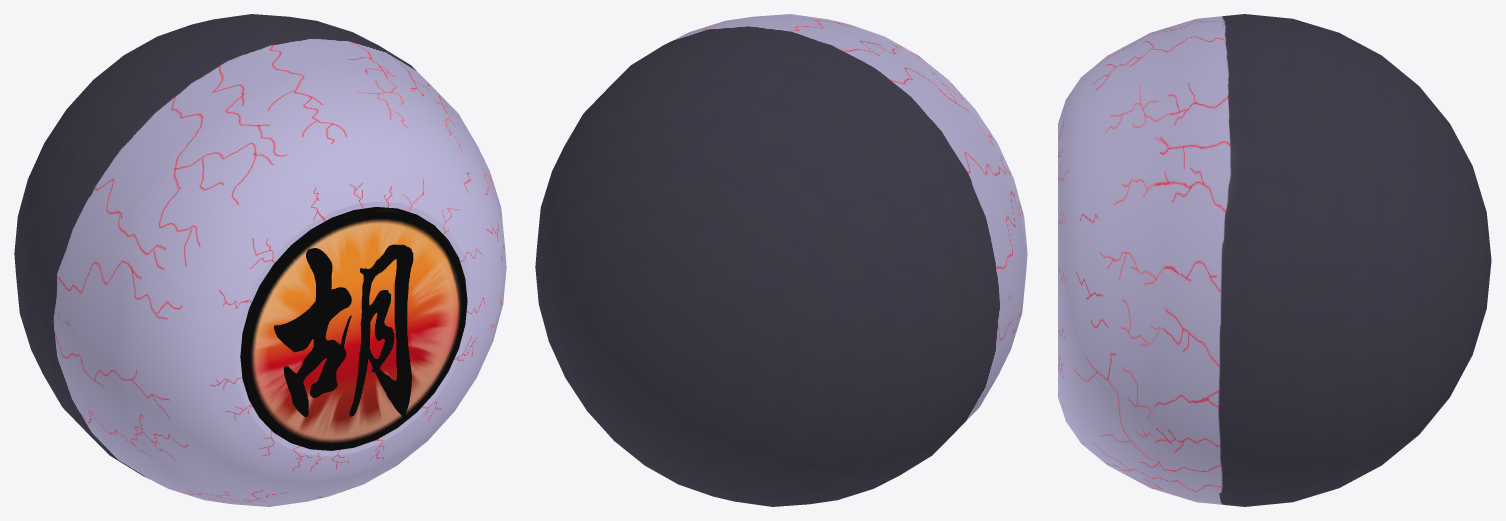
File: Eye.glb
The picture shows the model from 3 angles, left to right: view 1: azimuth 30°, elevation 25°; view 2: azimuth 150°, elevation 25°; view 3: azimuth 270°, elevation 25°; orthographic projection.
Parts seen in each view (by area): view 1: Sphere, Circle, Plane; view 2: Sphere; view 3: Sphere.
Boxes of the visible parts, bbox=[...] form: Sphere: bbox=[14, 14, 506, 506]; Circle: bbox=[240, 207, 467, 450]; Plane: bbox=[274, 244, 413, 417]; Sphere: bbox=[535, 14, 1027, 506]; Sphere: bbox=[1058, 14, 1491, 506].
Bounding box in the file's own units: 2 × 2 × 1.76.
Materials: 3 (3 with a texture image).
